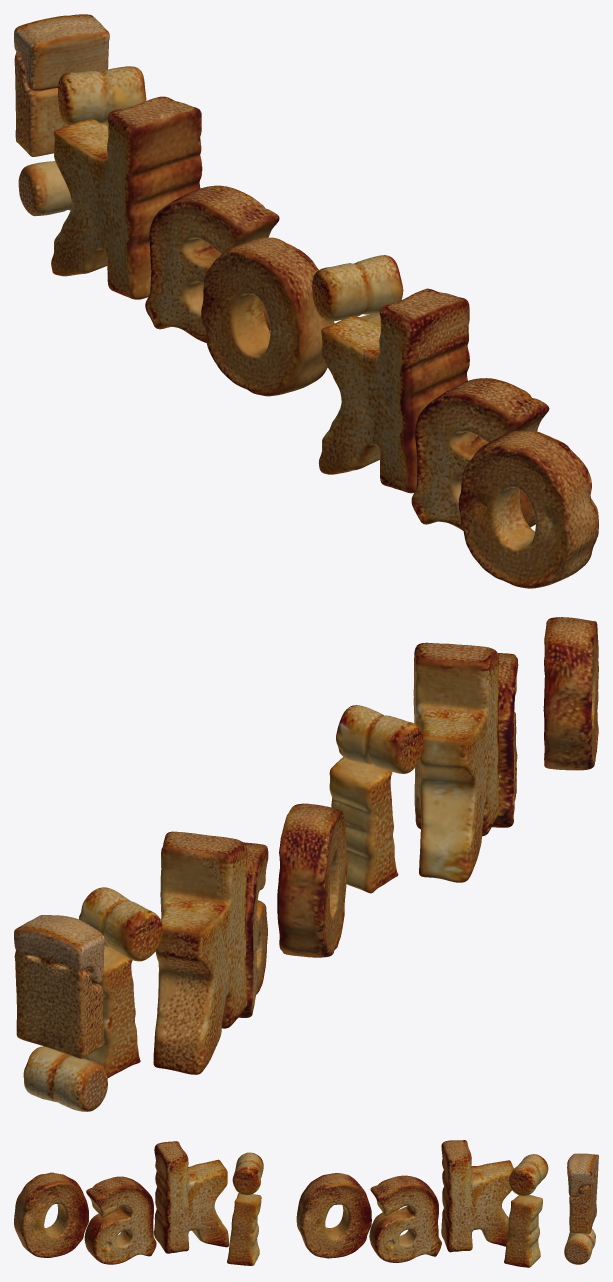
Rendered from oaki-character.glb.
The picture shows the model from 3 angles, top to bottom: view 1: azimuth 30°, elevation 25°; view 2: azimuth 150°, elevation 25°; view 3: azimuth 270°, elevation 25°; orthographic projection. The views are drawn at different scales.
Parts seen in each view (by area): view 1: tripo_node_6cb23edd-f926-4237-a5ab-adfad5523eb5; view 2: tripo_node_6cb23edd-f926-4237-a5ab-adfad5523eb5; view 3: tripo_node_6cb23edd-f926-4237-a5ab-adfad5523eb5.
Boxes of the visible parts, x1,y1,x2,y2 form: tripo_node_6cb23edd-f926-4237-a5ab-adfad5523eb5: (14,14,598,588); tripo_node_6cb23edd-f926-4237-a5ab-adfad5523eb5: (14,617,598,1111); tripo_node_6cb23edd-f926-4237-a5ab-adfad5523eb5: (14,1140,598,1267).
Bounding box in the file's own units: 0.1284 × 0.1995 × 1.
Materials: 1 (1 with a texture image).
